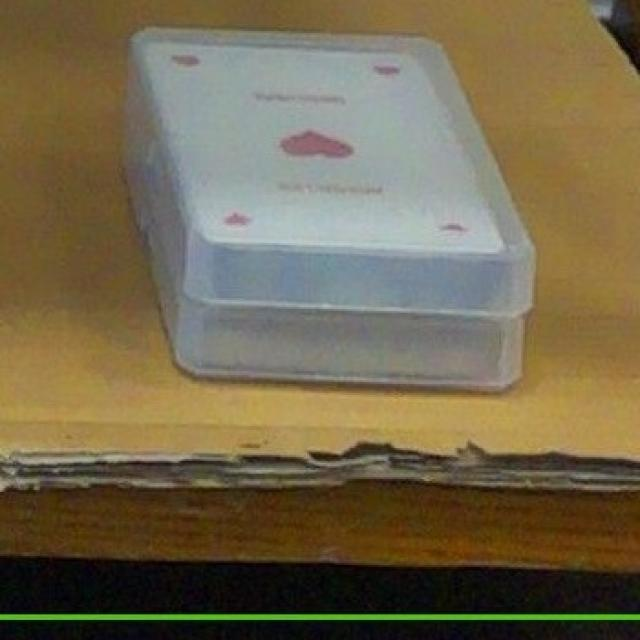Jasskarte: (124, 27, 536, 318), (122, 112, 527, 392)
